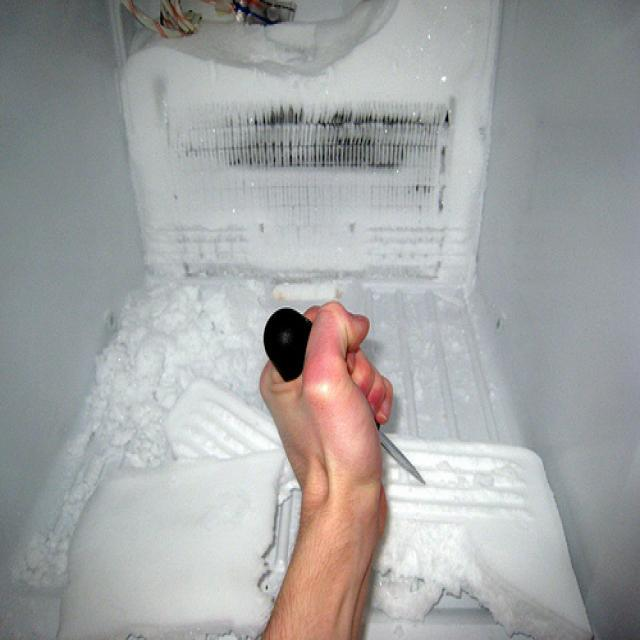screwdriver: (256, 300, 428, 490)
